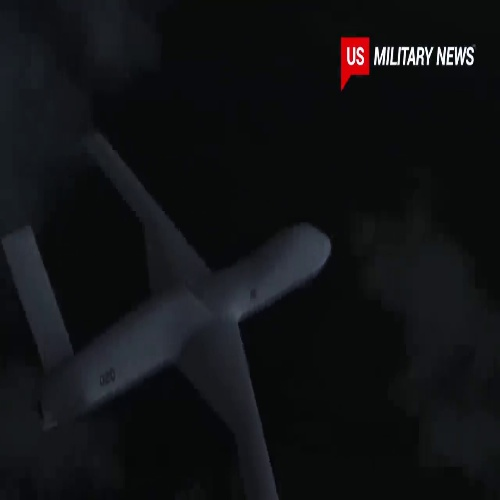uav199: (2, 136, 333, 500)
